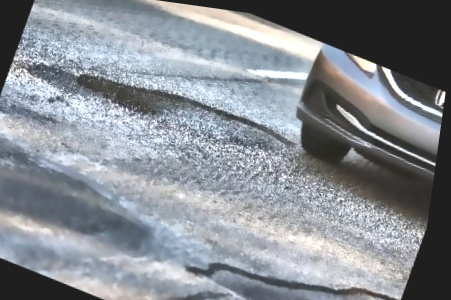pothole: (65, 49, 307, 177), (174, 215, 409, 300)
